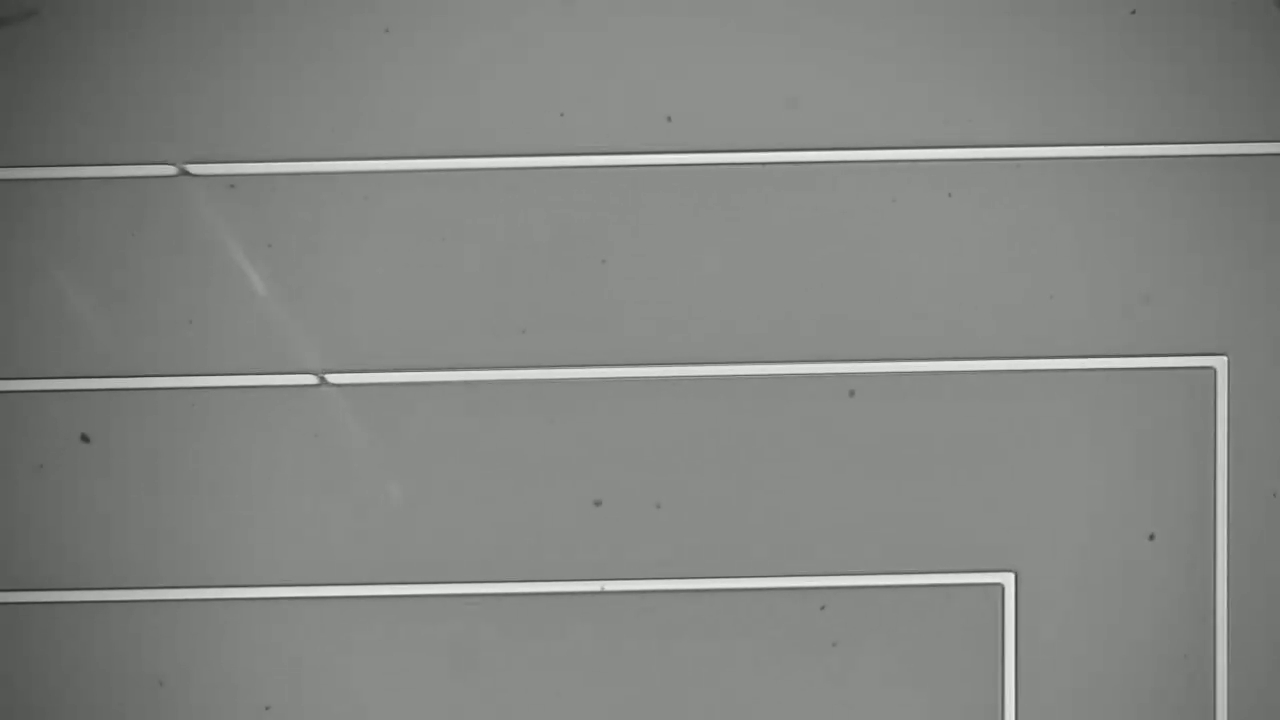gray_line: (302, 358, 340, 395), (166, 147, 200, 184)
